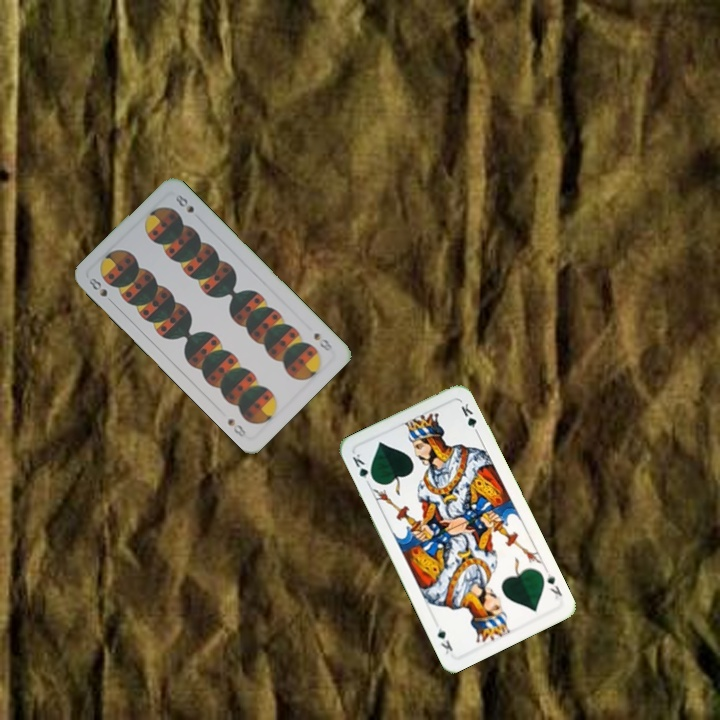GK: (348, 449, 377, 488), (541, 565, 565, 602)
S8: (85, 274, 117, 306), (310, 328, 335, 353)
